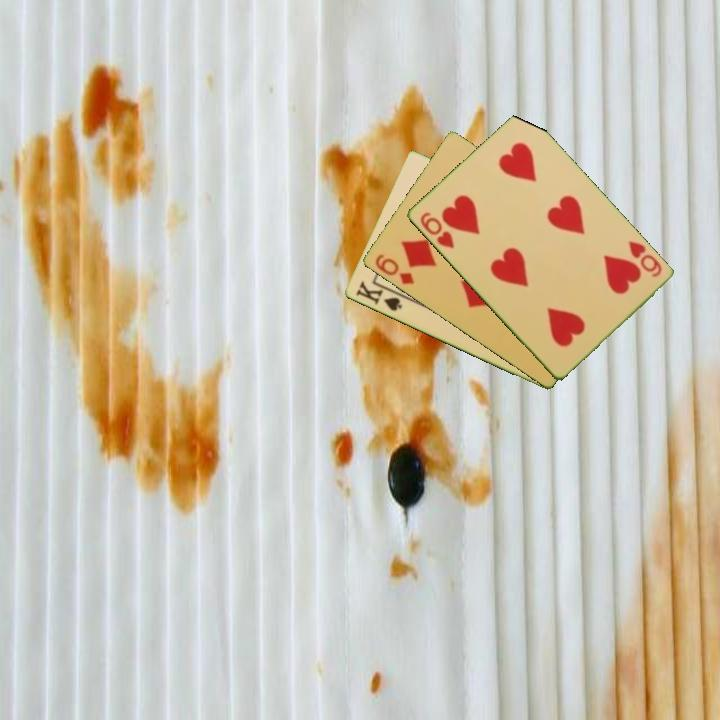6d: (371, 250, 417, 288)
6h: (416, 209, 457, 252), (625, 237, 664, 280)
Ks: (352, 278, 408, 314)
